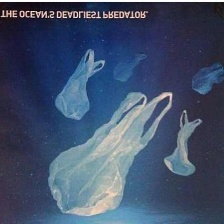plastic_bag: (45, 88, 173, 218), (51, 46, 105, 121), (160, 107, 207, 182), (109, 49, 148, 84), (188, 61, 223, 98)
